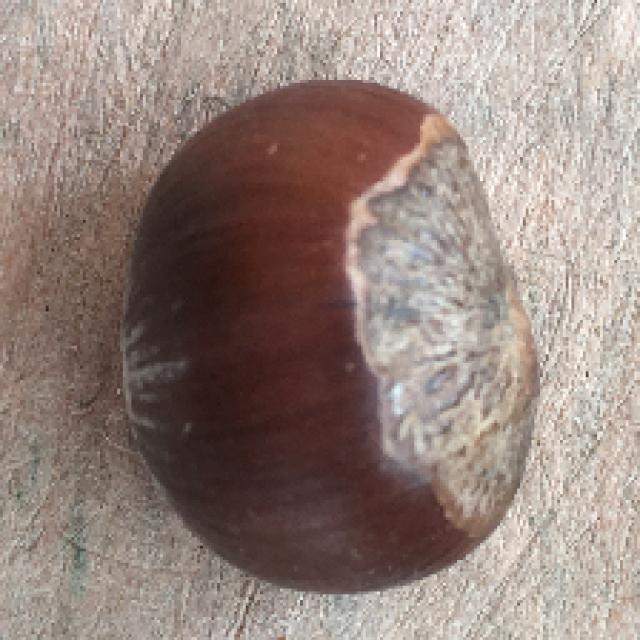damagedHazelnut: (114, 80, 539, 598)
